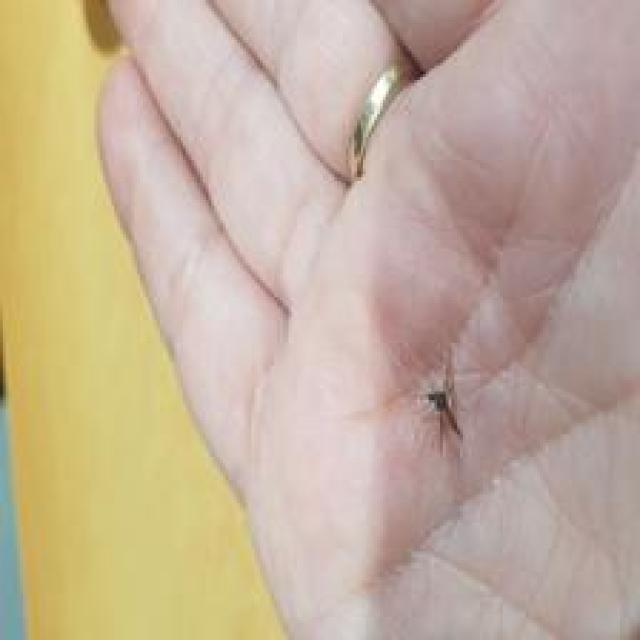Culex: (422, 346, 464, 454)
